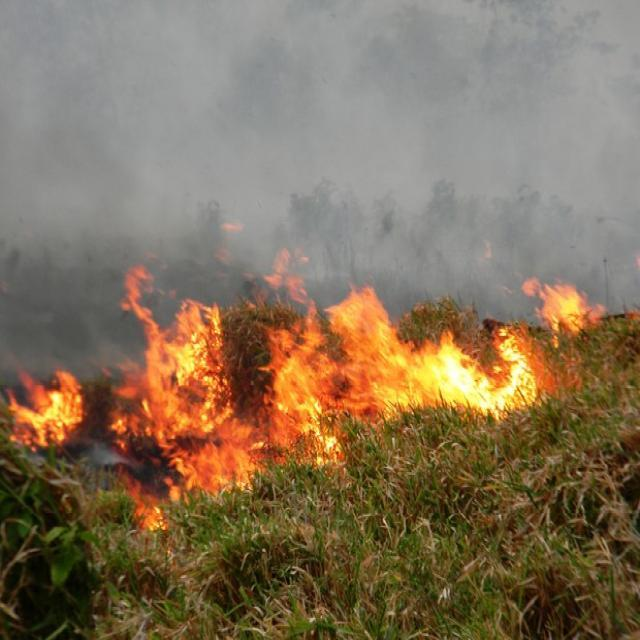Fire: (273, 282, 398, 474), (136, 302, 246, 502), (426, 322, 540, 416), (540, 274, 598, 336)
